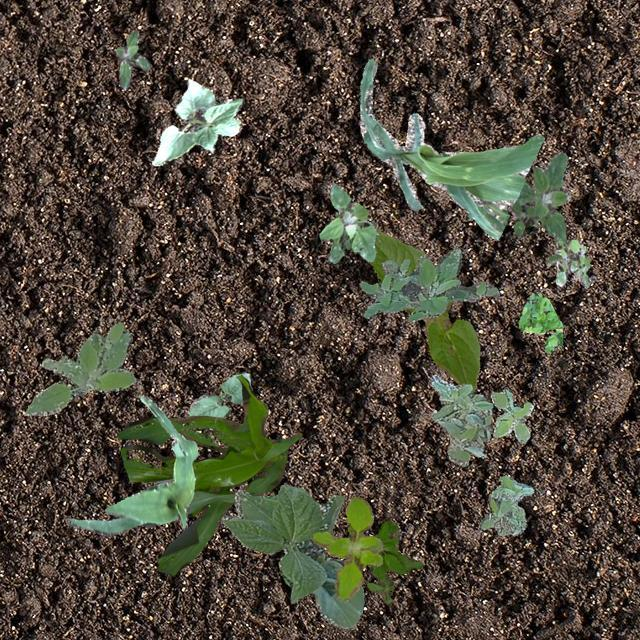crop: (117, 374, 300, 576), (358, 58, 542, 240), (220, 484, 364, 628), (66, 394, 196, 536), (368, 228, 479, 392), (150, 78, 242, 164), (184, 372, 250, 416)
weed: (358, 246, 498, 320), (24, 322, 134, 414), (312, 496, 382, 598), (508, 150, 570, 244), (429, 374, 492, 466), (318, 182, 378, 262), (366, 520, 422, 604), (478, 474, 534, 534), (518, 290, 562, 352), (490, 388, 532, 442), (544, 238, 590, 286), (114, 30, 150, 89)
